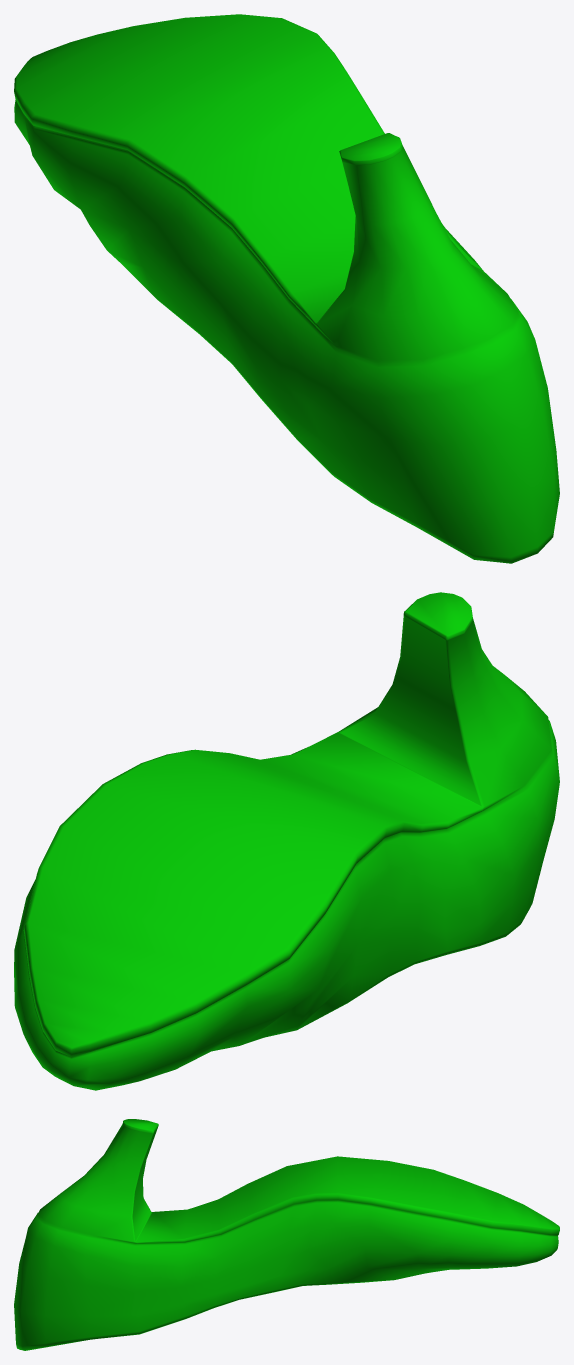
File: shoe1_2.dae
The picture shows the model from 3 angles, top to bottom: view 1: azimuth 30°, elevation 25°; view 2: azimuth 150°, elevation 25°; view 3: azimuth 270°, elevation 25°; orthographic projection. The views are drawn at different scales.
Parts seen in each view (by area): view 1: shoe1; view 2: shoe1; view 3: shoe1.
Part boxes in pixels (x1,y1,x2,y2): shoe1: [14, 14, 559, 563]; shoe1: [14, 592, 559, 1090]; shoe1: [14, 1119, 559, 1350].
Bounding box in the file's own units: 0.1138 × 0.3576 × 0.1548.
